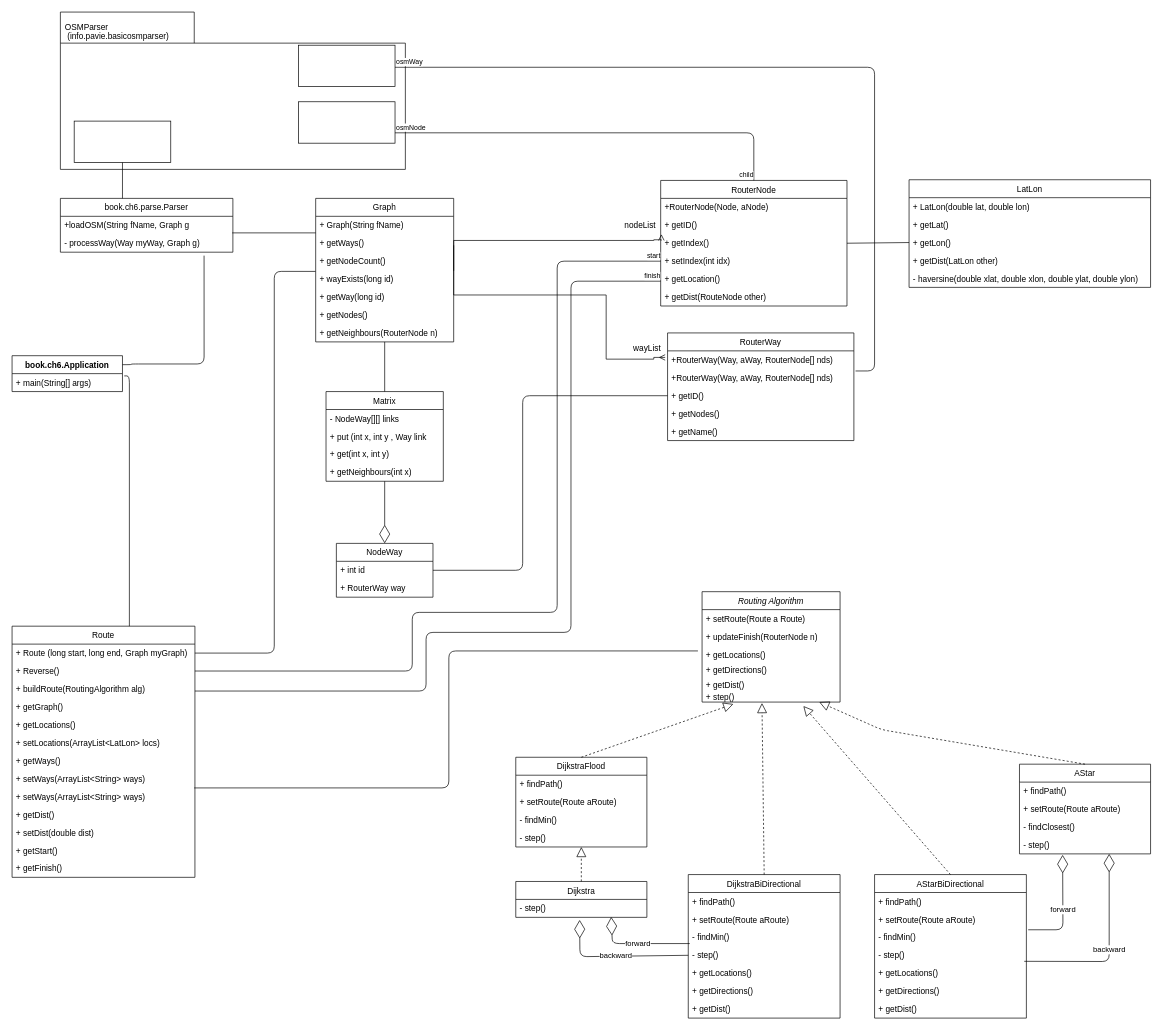
The diagram is 1163 pixels wide and 1032 high, and some of its shapes have lost their labels. The shapes that lost their labels are listed below. From the top down, each one's centre as x and y in pixels, then its label:
At pixel 346 66: "Way".
At pixel 122 141: "OSMParser".
At pixel 346 122: "Node".
